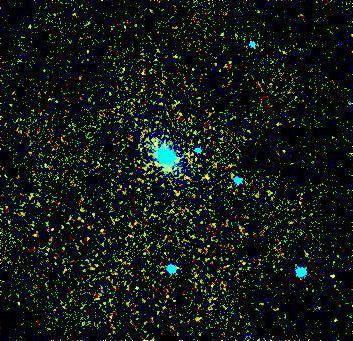star: (160, 144, 190, 174)
